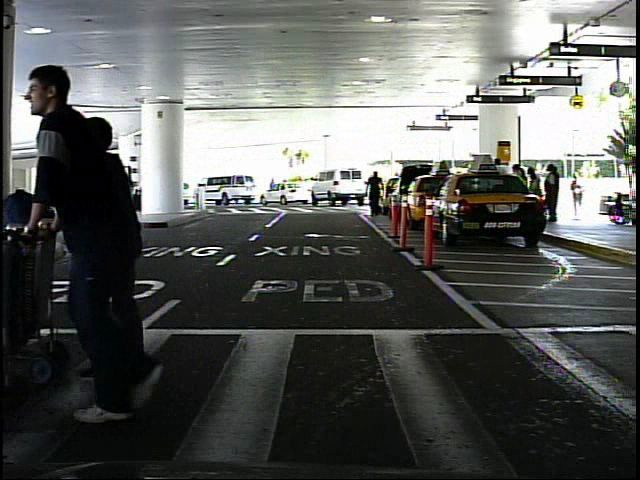person: (35, 50, 183, 430), (363, 167, 387, 223), (571, 172, 590, 218), (109, 173, 126, 212)
